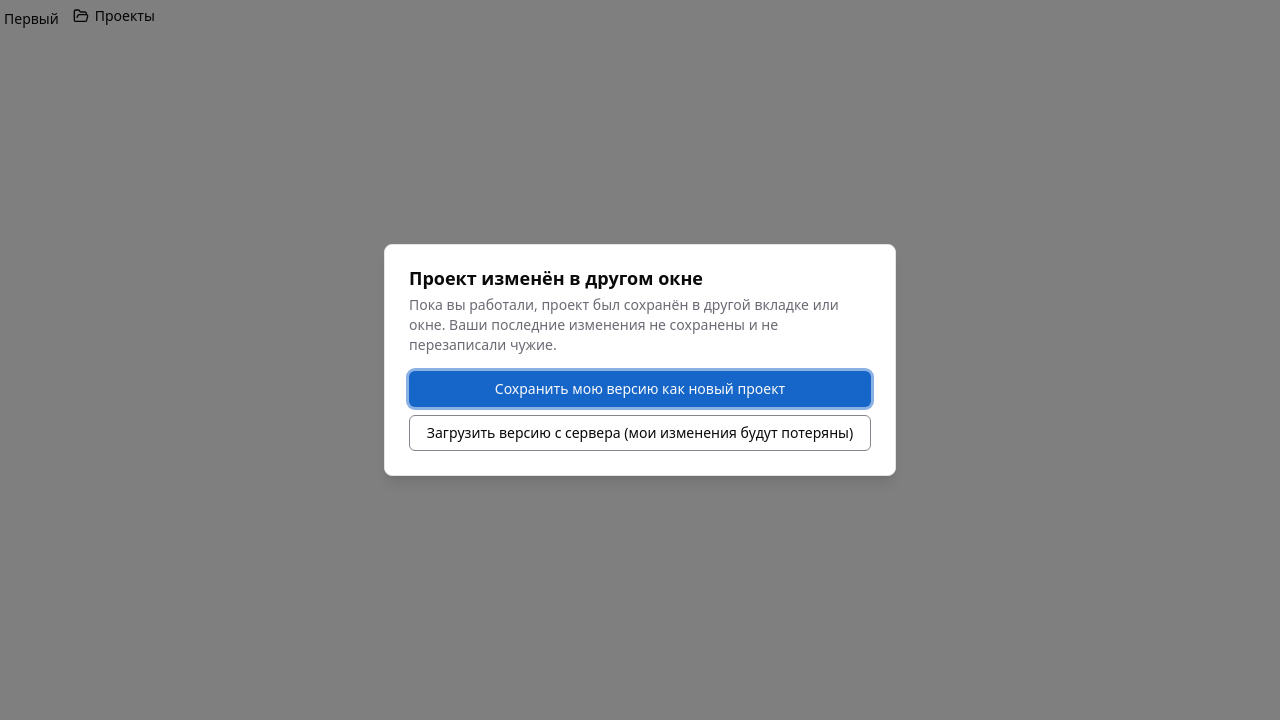
ProjectsMenu › shows the conflict dialog with explicit choices
This screenshot has width=1280, height=720.
Press Escape
Expected: the dialog "Проект изменён в другом окне" is shown, [384,244,896,476]
Click the button "Загрузить версию с сервера (мои изменения будут потеряны)".
click(640, 433)  # box [409,415,871,451]
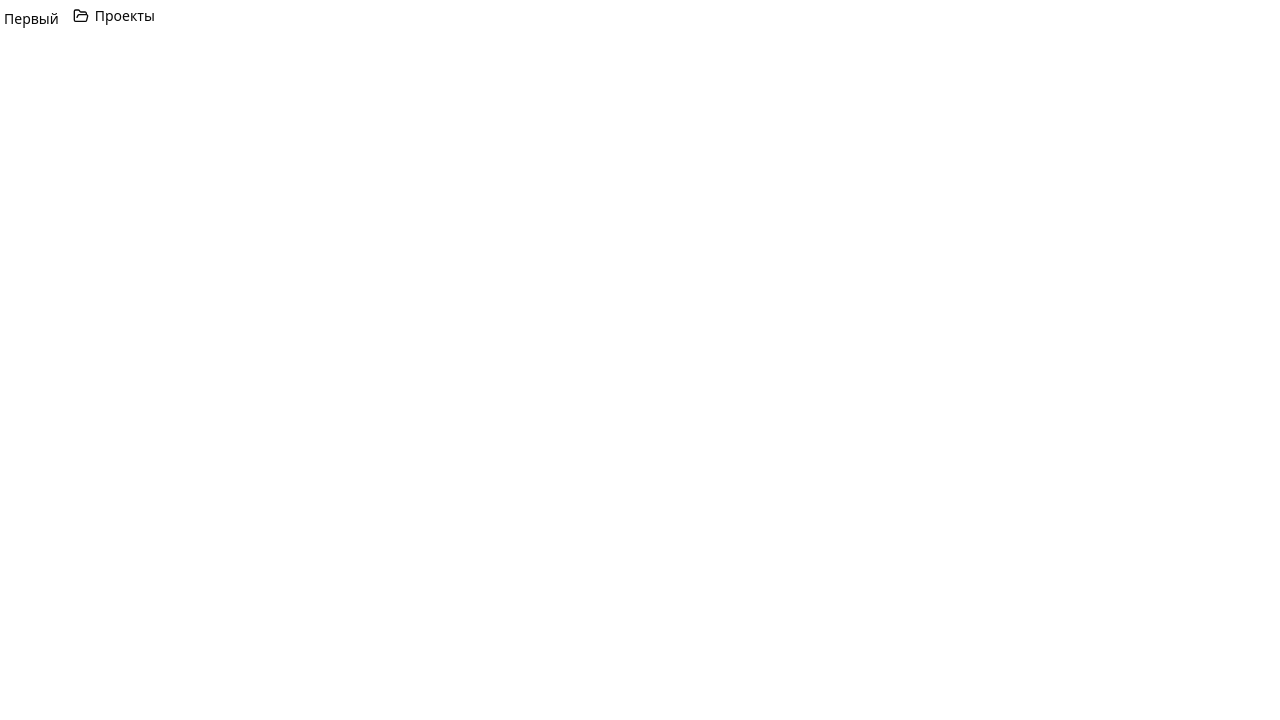
Expected: the dialog is gone
